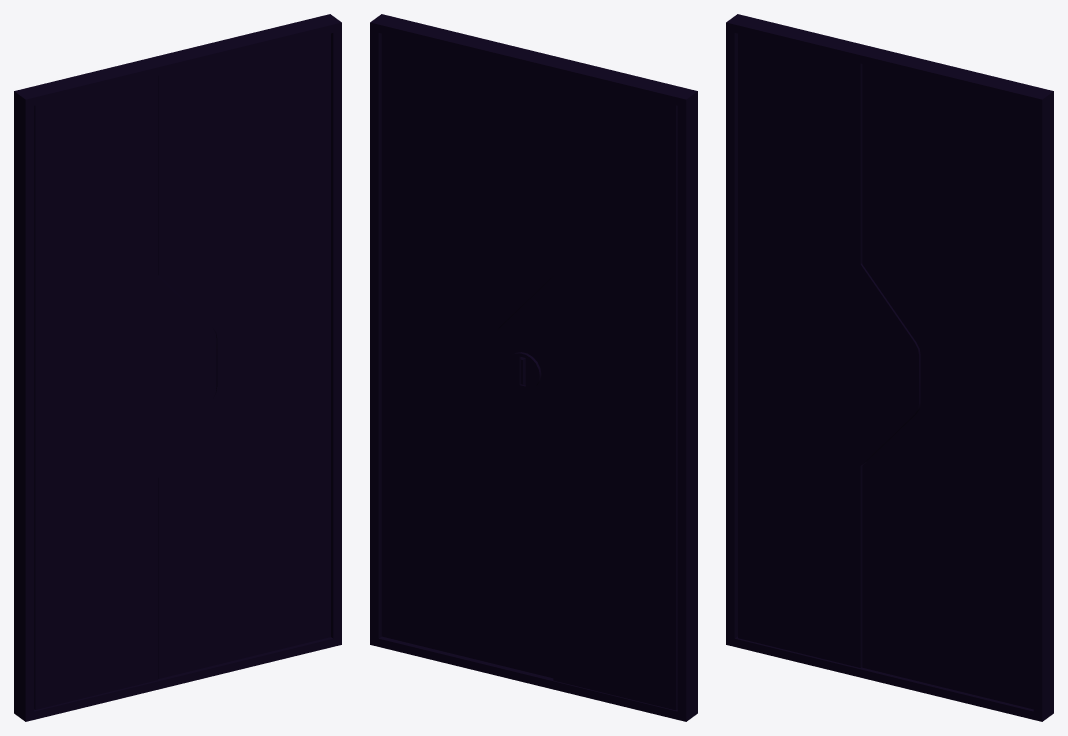
Rendered from Door.fbx.
3 views of the same model, side by side, from view 1: azimuth 30°, elevation 25°; view 2: azimuth 150°, elevation 25°; view 3: azimuth 330°, elevation 25° (orthographic).
Parts seen in each view (by area): view 1: Door; view 2: Door; view 3: Door.
Boxes of the visible parts, left/top/right/bottom form: Door: left=14, top=14, right=341, bottom=721; Door: left=370, top=14, right=697, bottom=721; Door: left=726, top=14, right=1053, bottom=721.
Bounding box in the file's own units: 42.09 × 79.16 × 3.12.
